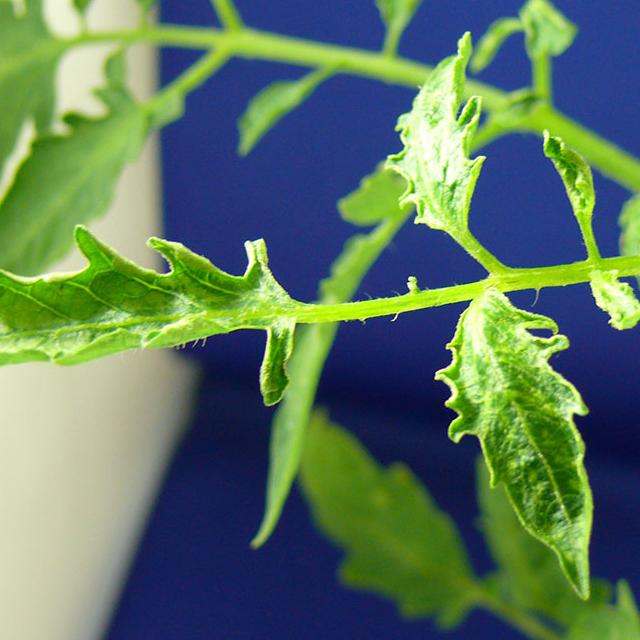Tomato leaf mosaic virus: (418, 287, 626, 609), (0, 240, 325, 397), (376, 22, 497, 242)
